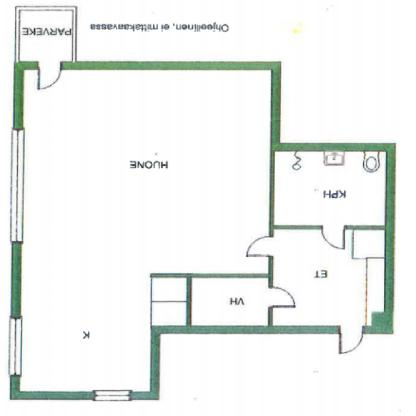door: (266, 286, 300, 310), (37, 62, 65, 91), (338, 326, 365, 354), (245, 235, 273, 260), (322, 226, 347, 252)
window: (13, 129, 22, 241), (10, 316, 21, 377), (94, 391, 130, 401)
zone: (22, 70, 269, 391), (272, 229, 391, 326), (274, 152, 384, 226), (192, 276, 269, 327), (18, 10, 72, 63)
